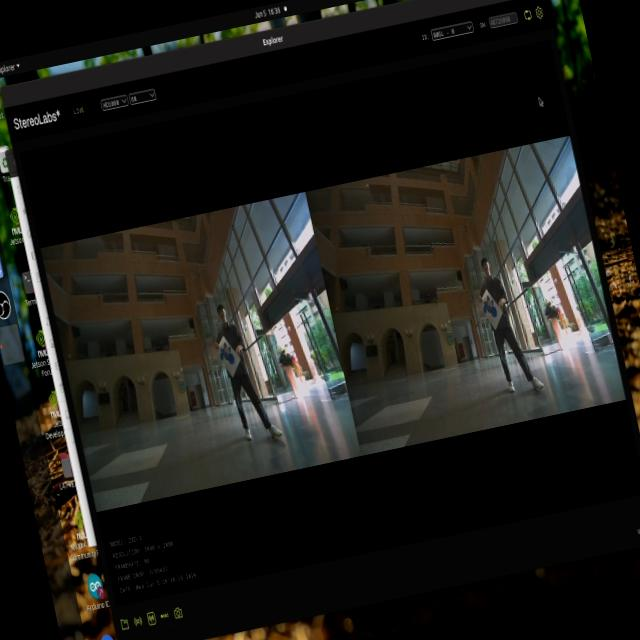blue: (478, 290, 502, 327), (213, 340, 237, 376)
